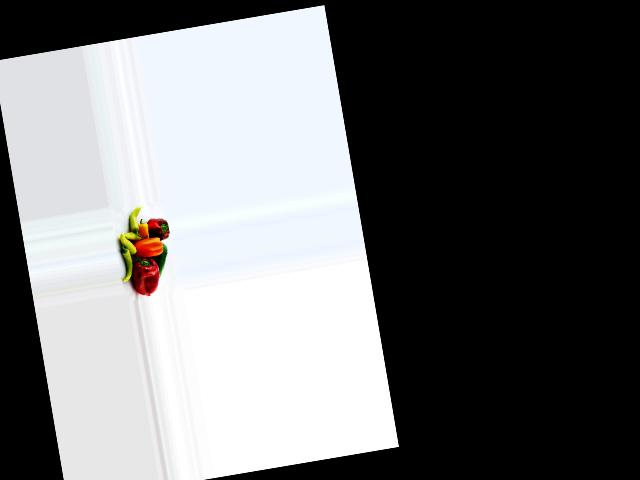bell_pepper: (117, 242, 135, 284)
